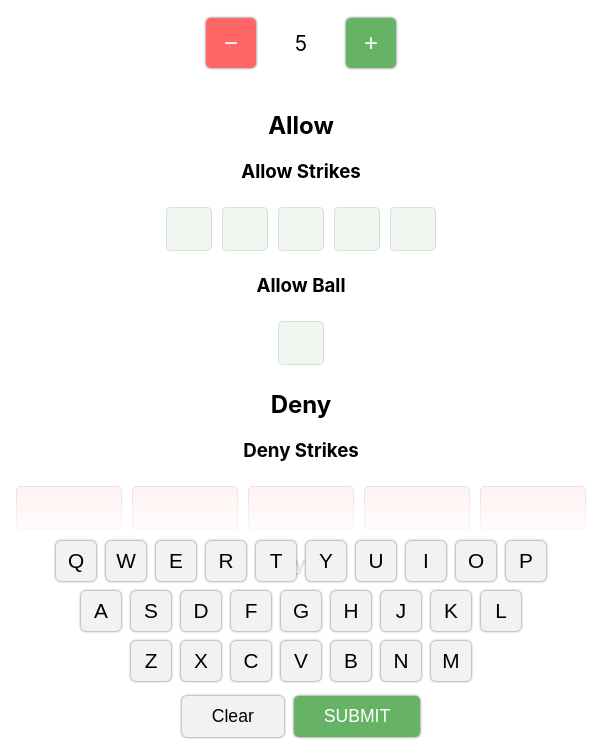
it: Keyboard Component Test › When focusing on the deny strike zone, the clicked keyboard enters the deny strike
Click the button "A" at [101, 611], box [81,591,121,631]
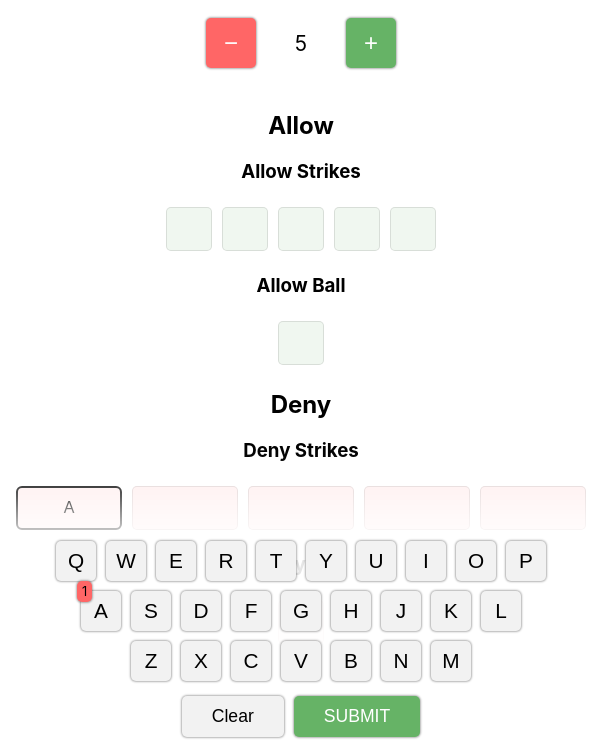
Click the button "B" at [351, 661], box [331,641,371,681]
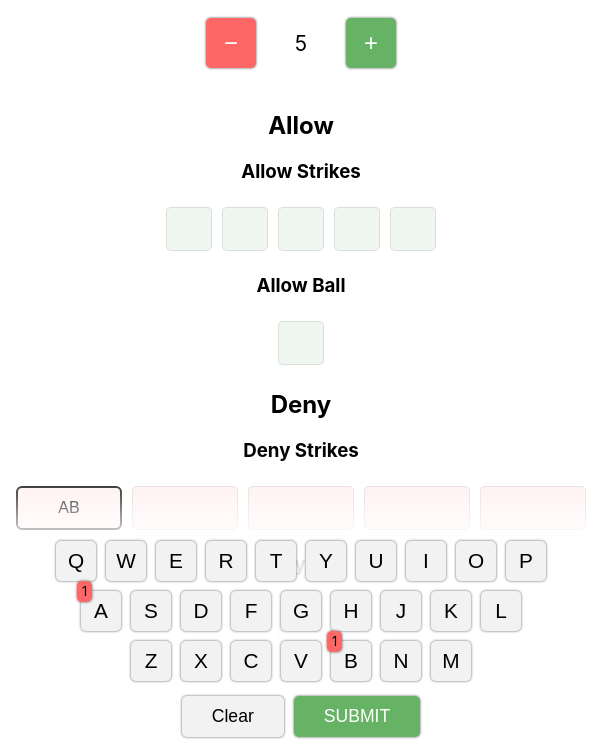
Click the button "C" at [251, 661], box [231,641,271,681]
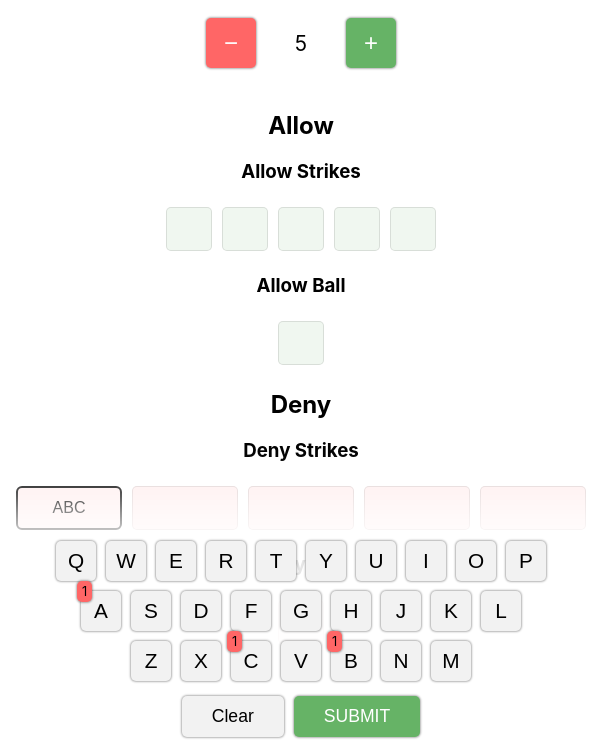
Expected: the field named "deny-strike-0" holds "ABC", [16,486,122,530]
